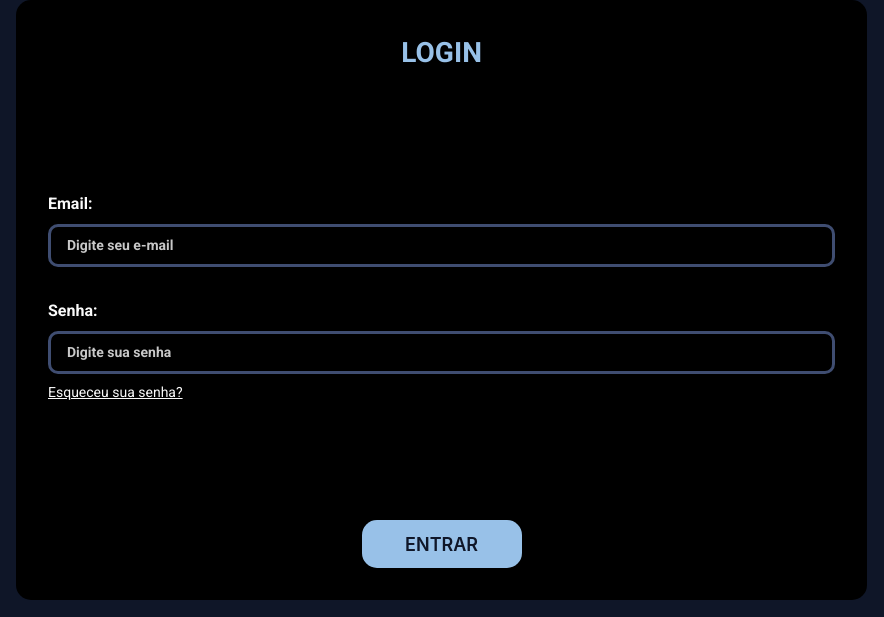
Test: Login Component › should display error message for invalid email
The width and height of the screenshot is (884, 617).
Type "invalid-email@teste.c" into the field with placeholder "Digite seu e-mail" at (442, 245), box [48,224,835,266]
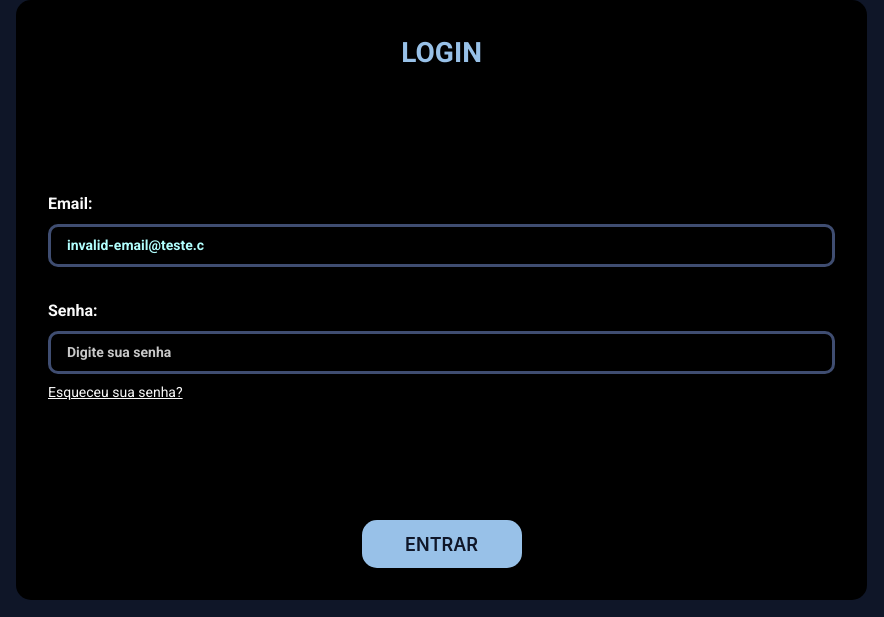
Type "validPassword123" into the password field with placeholder "Digite sua senha" at (442, 352), box [48,330,835,374]
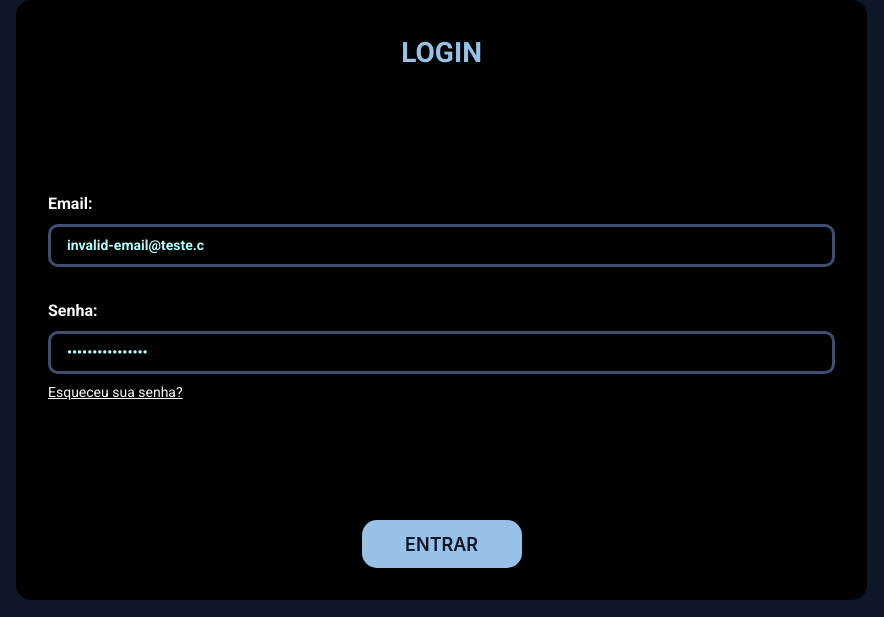
Click the button "ENTRAR" at (442, 544), box [362,520,522,568]
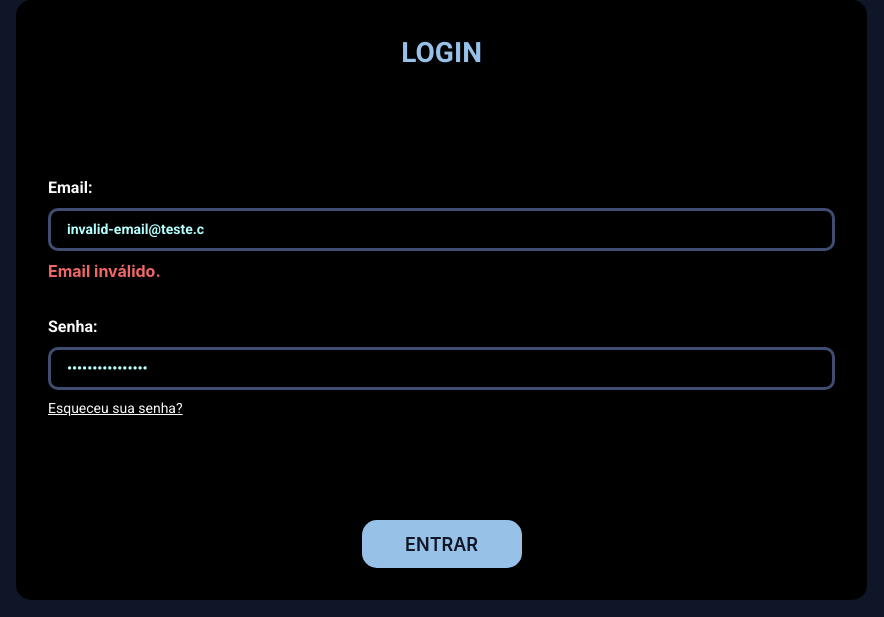
Now the text "Email inválido." is shown, box [48,260,161,280]
